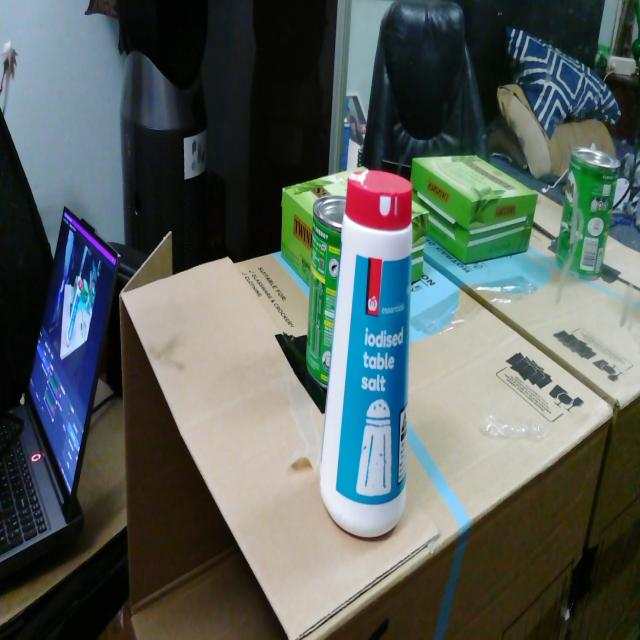nestle_milo_tin: (306, 195, 346, 389)
twinings_greentea_box: (281, 167, 368, 287), (411, 200, 429, 283)
woolworths_salt_bottle: (319, 170, 412, 537)
